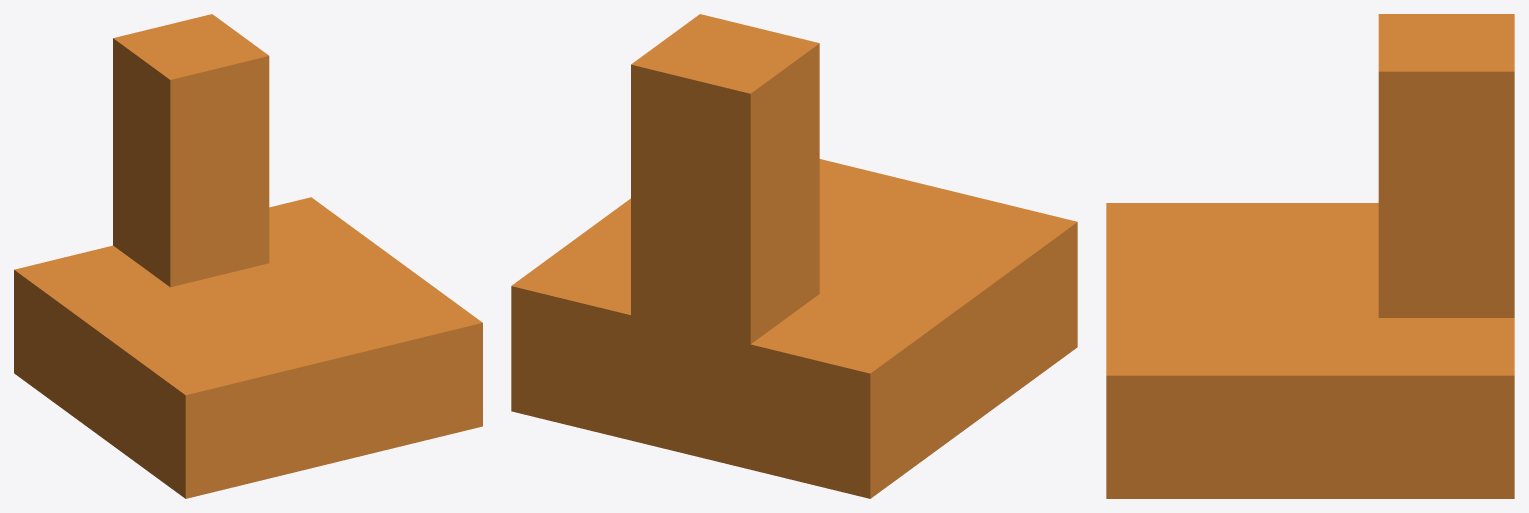
File: duck__leg_l.glb
3 renders of one model, left to right at view 1: azimuth 30°, elevation 25°; view 2: azimuth 150°, elevation 25°; view 3: azimuth 270°, elevation 25°, orthographic. The views are drawn at different scales.
Visible parts, largest first — view 1: duck__leg_l; view 2: duck__leg_l; view 3: duck__leg_l.
Boxes of the visible parts, <box> form: duck__leg_l: <box>14,14,482,498</box>; duck__leg_l: <box>511,14,1077,498</box>; duck__leg_l: <box>1106,14,1514,498</box>.
Bounding box in the file's own units: 0.3 × 0.3 × 0.3.
Materials: 1 (1 with a texture image).
